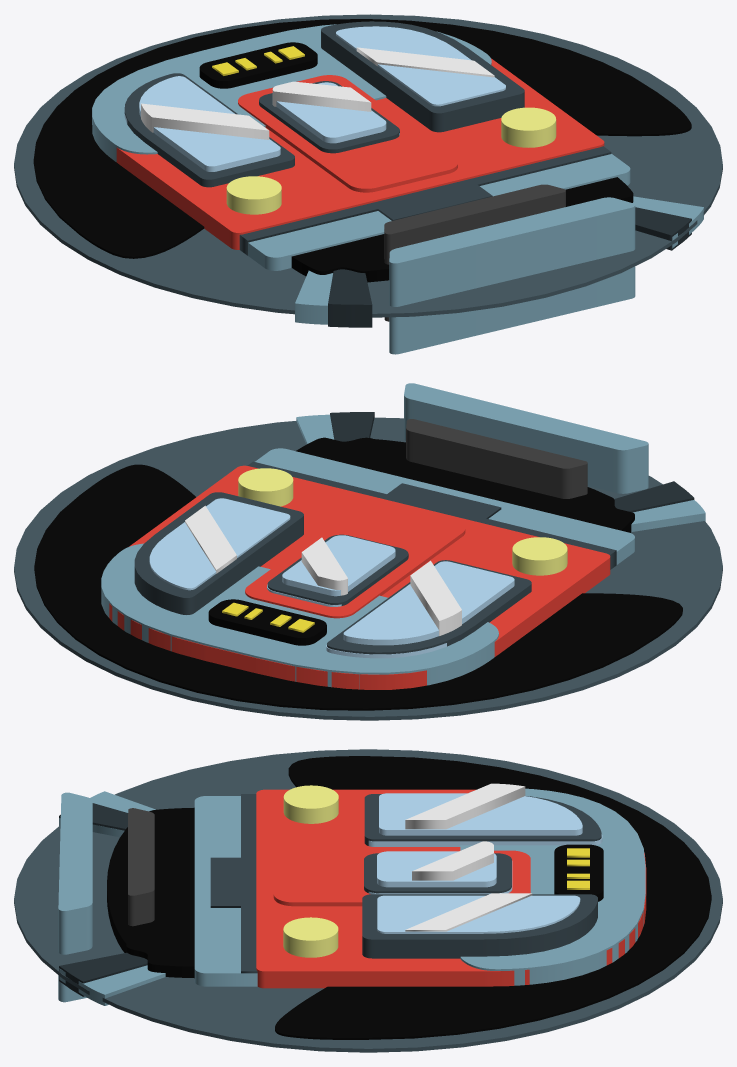
Rendered from emoji_u1f687.glb.
The picture shows the model from 3 angles, top to bottom: view 1: azimuth 30°, elevation 25°; view 2: azimuth 150°, elevation 25°; view 3: azimuth 270°, elevation 25°; orthographic projection.
Visible parts, largest first — view 1: emoji_u1f687; view 2: emoji_u1f687; view 3: emoji_u1f687.
Part boxes in pixels (<box>): emoji_u1f687: <box>14,14,722,354</box>; emoji_u1f687: <box>14,383,722,720</box>; emoji_u1f687: <box>14,749,722,1052</box>.
Bounding box in the file's own units: 0.0339 × 0.0048 × 0.0339.
